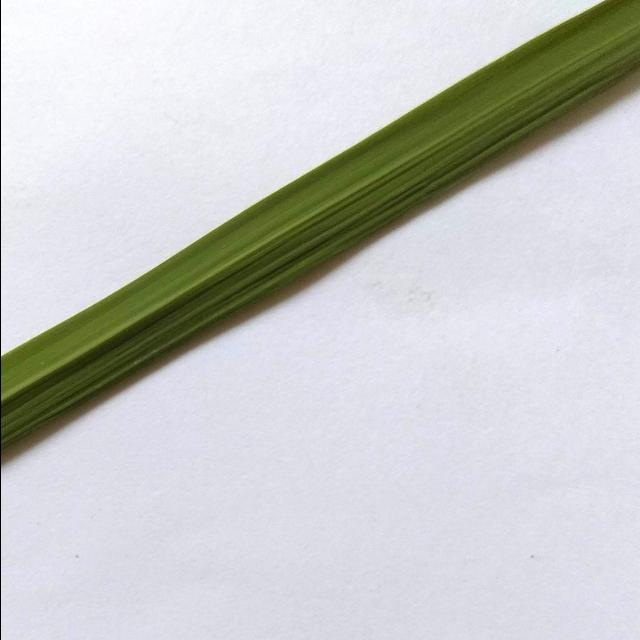healthy: (0, 0, 640, 503)
